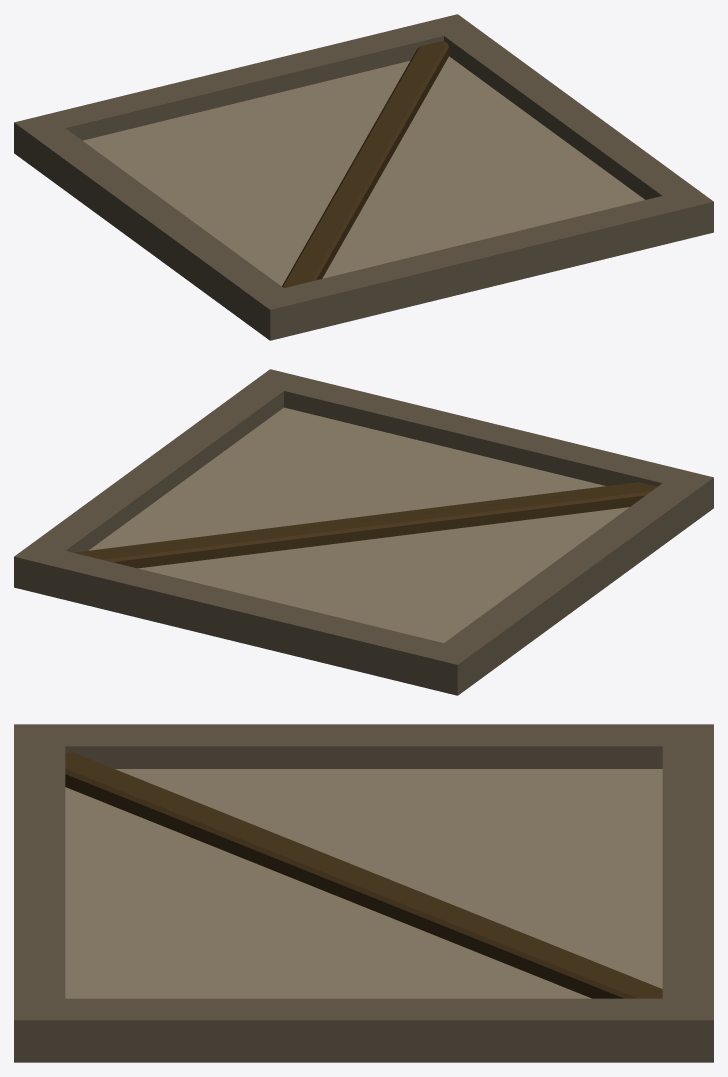
Rendered from tapa-caja_lowpoly.fbx.
3 renders of one model, top to bottom at view 1: azimuth 30°, elevation 25°; view 2: azimuth 150°, elevation 25°; view 3: azimuth 270°, elevation 25°, orthographic. The views are drawn at different scales.
Parts seen in each view (by area): view 1: Plane.001, Cube.019; view 2: Plane.001, Cube.019; view 3: Plane.001, Cube.019.
Boxes of the visible parts, bbox=[...] form: Plane.001: bbox=[14, 14, 713, 340]; Cube.019: bbox=[282, 40, 448, 287]; Plane.001: bbox=[14, 369, 713, 695]; Cube.019: bbox=[74, 482, 657, 568]; Plane.001: bbox=[14, 724, 713, 1062]; Cube.019: bbox=[65, 752, 662, 998].
Bounding box in the file's own units: 985 × 65.52 × 985.
